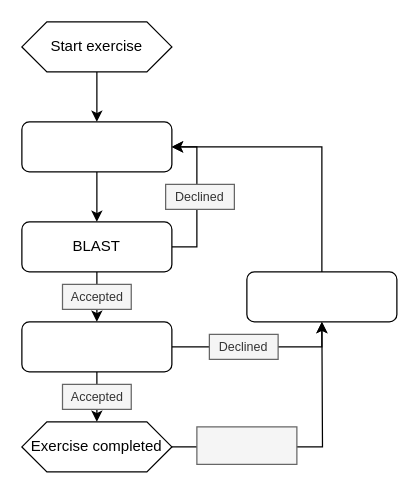
This 419x494 diagram has some shape labels left out. The shapes that lost their labels are listed below. From the top down, each one's centre as x and y in pixels, then its label:
the point at 96,146: Make exercise & Hand in exercise
the point at 321,296: Exercise reopened
the point at 96,346: Review is created
the point at 246,445: Review sample declined
